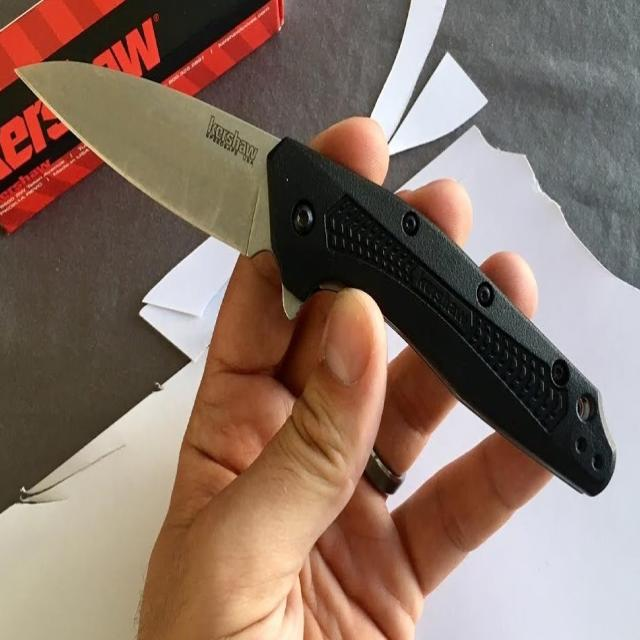knife: (8, 56, 623, 509)
